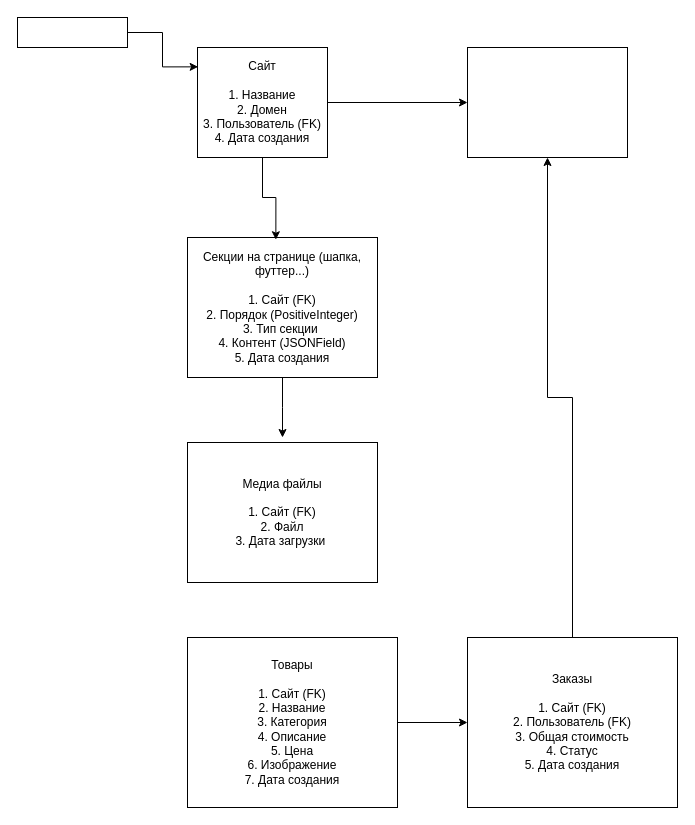
Image size: 695x825. Some labels were removed from this diagram. Here are the shapes that lost their labels. From the top down, the centre of each, then its label:
[72,32]: Пользователь
[547,102]: Страницы сайта 1. Сайт (FK) 2. Название страницы 3. Слаг 4. Дата создания
